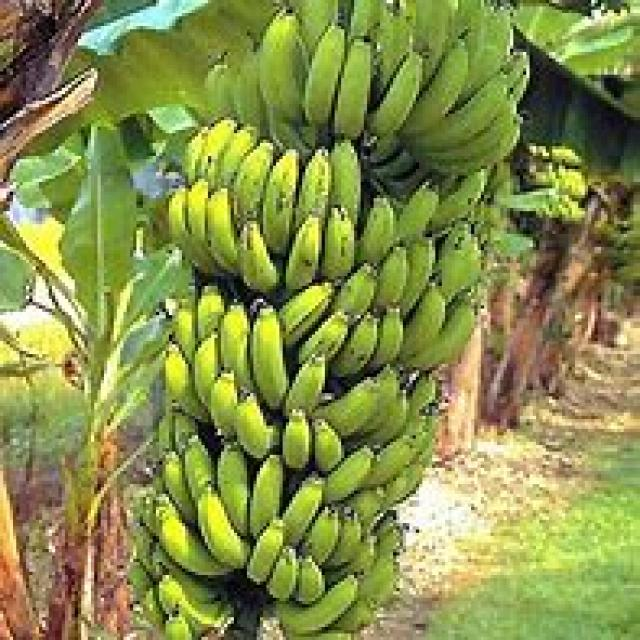banana: (153, 0, 529, 640)
